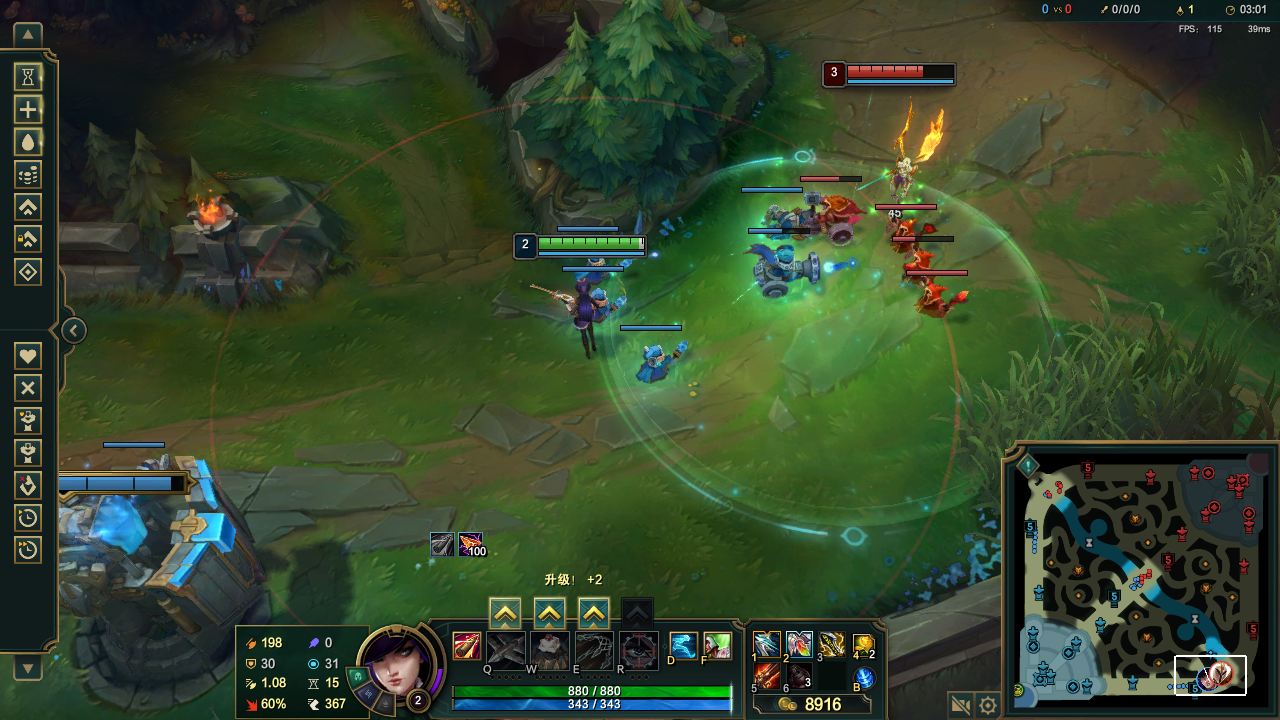DFYX: (847, 65, 957, 81)
